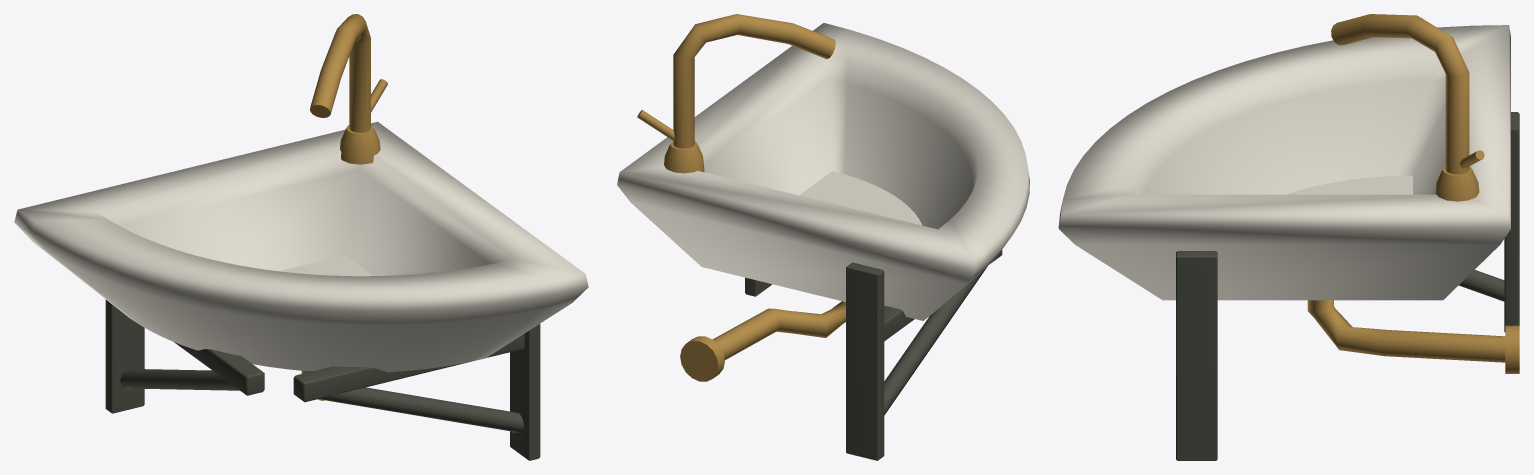
Rendered from rpg-mansion-two-wall-corner-basin-01.glb.
3 renders of one model, left to right at view 1: azimuth 30°, elevation 25°; view 2: azimuth 150°, elevation 25°; view 3: azimuth 270°, elevation 25°, orthographic. The views are drawn at different scales.
Parts seen in each view (by area): view 1: rpg-mansion-two-wall-corner-basin-01; view 2: rpg-mansion-two-wall-corner-basin-01; view 3: rpg-mansion-two-wall-corner-basin-01.
Boxes of the visible parts, x1=… form: rpg-mansion-two-wall-corner-basin-01: x1=14, y1=14, x2=588, y2=460; rpg-mansion-two-wall-corner-basin-01: x1=617, y1=14, x2=1029, y2=460; rpg-mansion-two-wall-corner-basin-01: x1=1058, y1=14, x2=1519, y2=460.
Size of the model in its own units: 0.55 by 0.5278 by 0.55.
